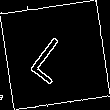L_NE: (28, 26, 82, 84)
